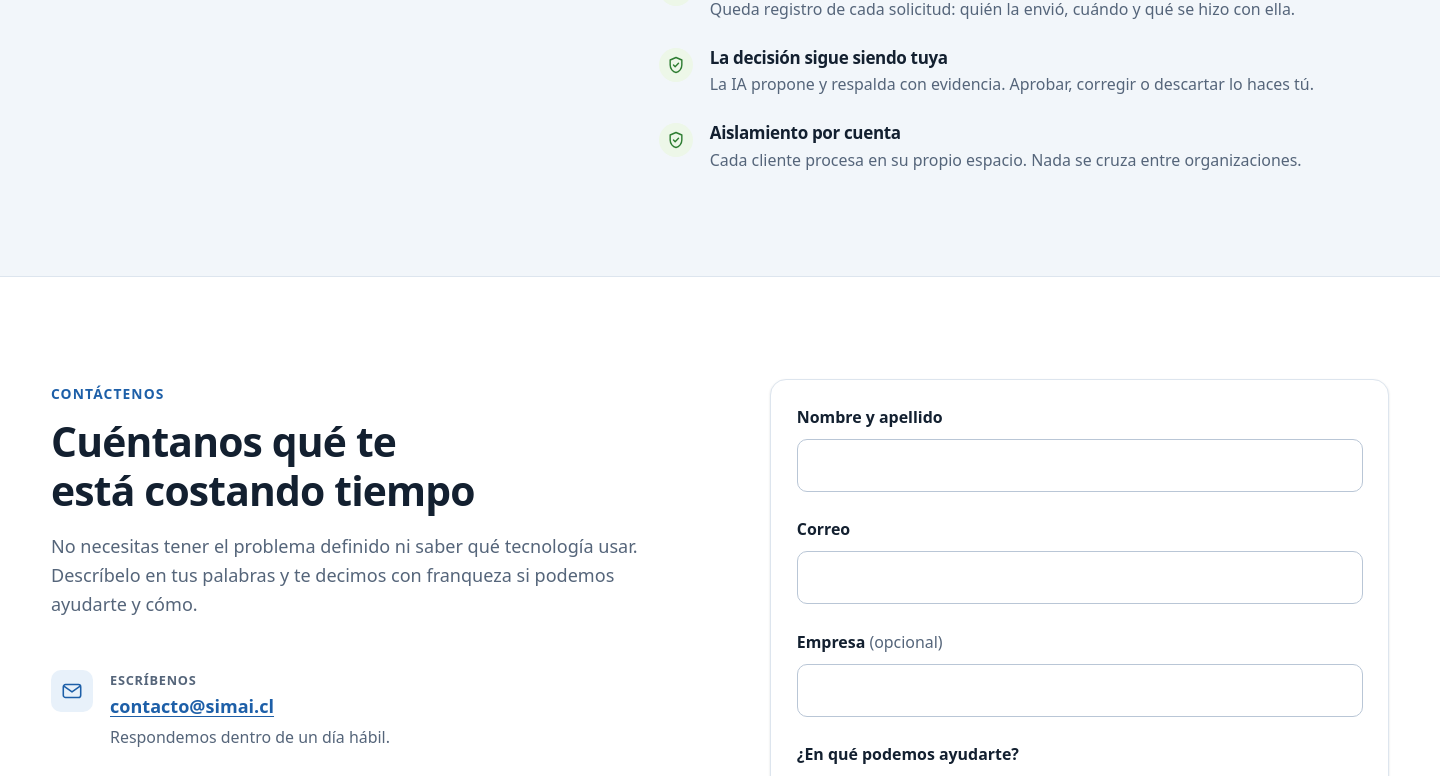
Test: LandingComponent › formulario de contacto › confirma la recepción con datos válidos
(page scrolled)
Step 1. Type "Ana Pérez" into the field labelled "Nombre y apellido" → x=1080, y=466, box [797, 439, 1362, 492]
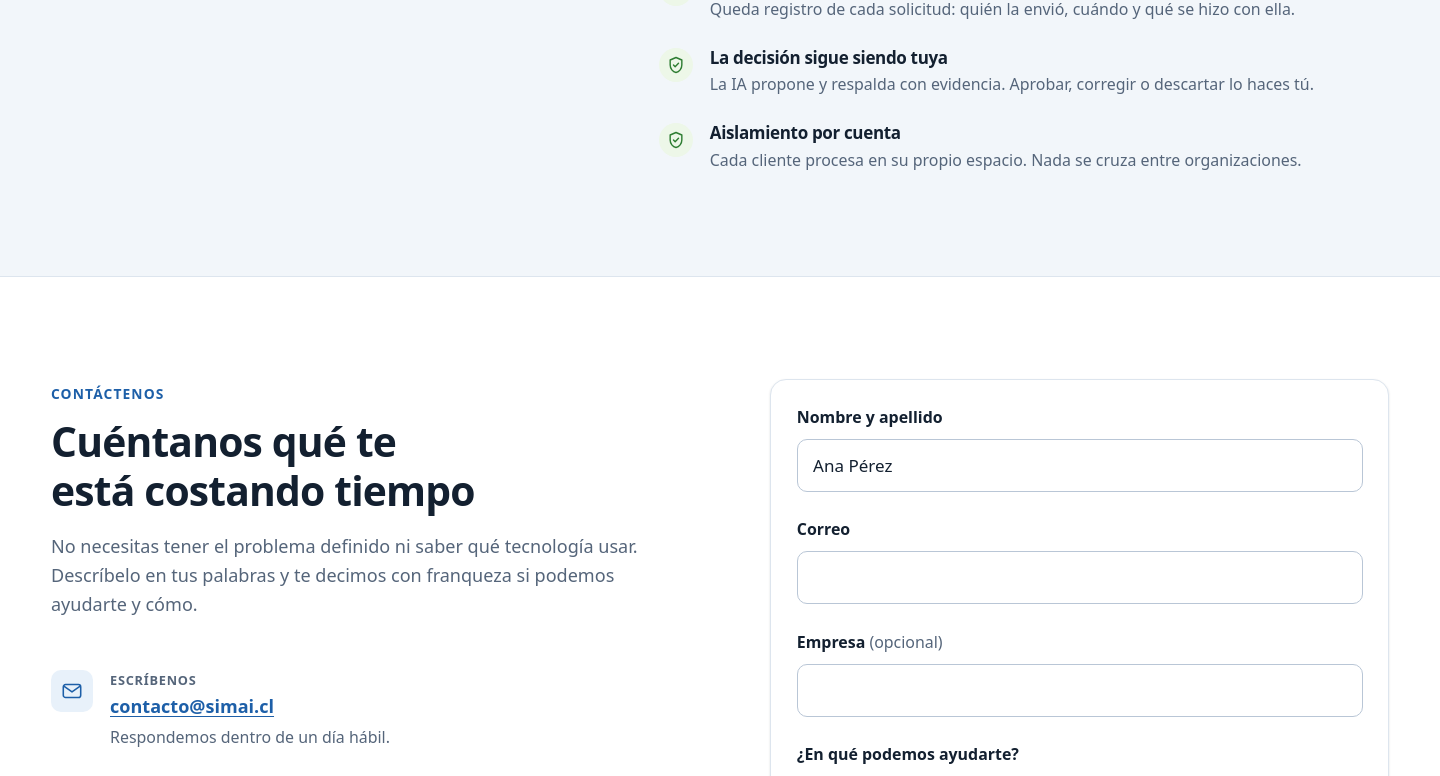
Step 2. Type "ana@acme.cl" into the field labelled "Correo" → x=1080, y=578, box [797, 552, 1362, 604]
(page scrolled)
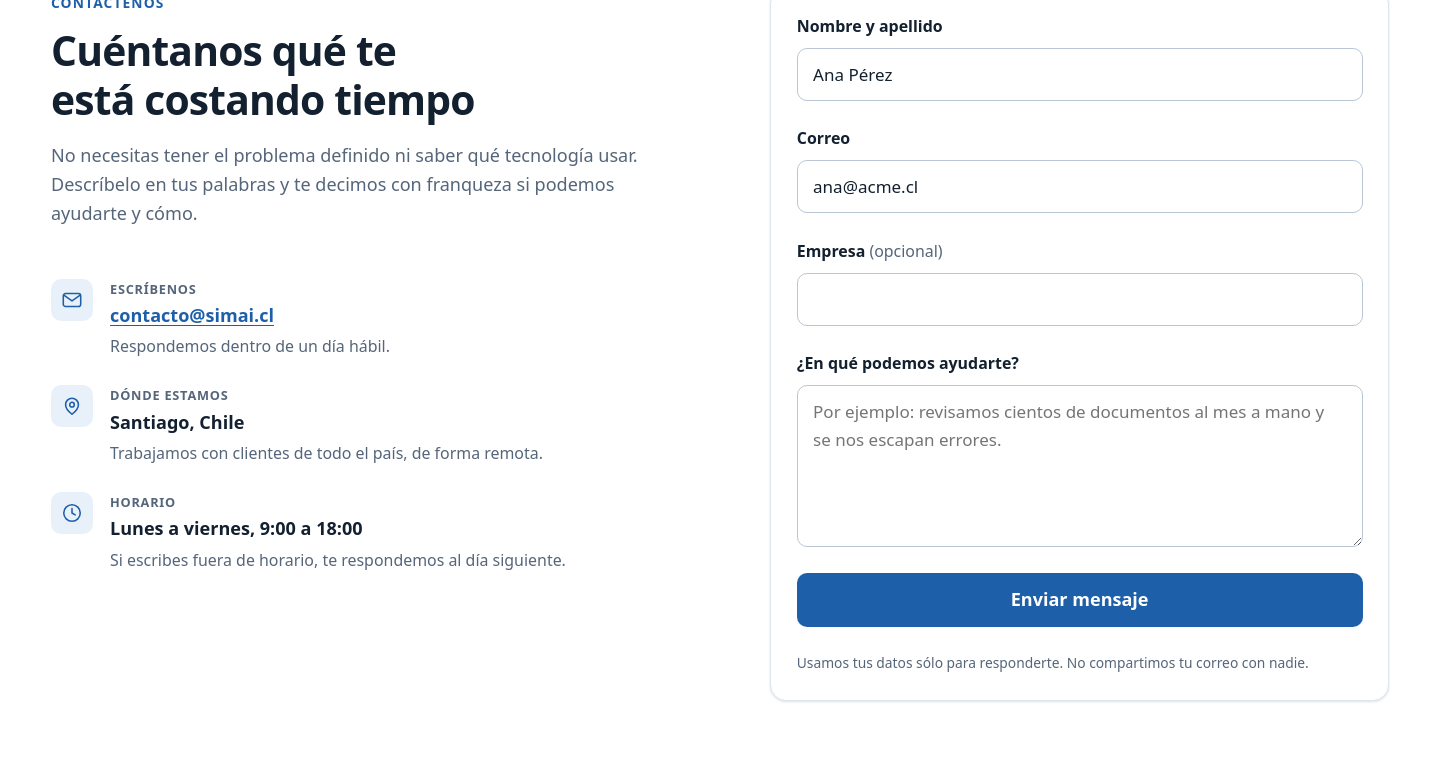
Step 3. Replace the text in the text box labelled "¿En qué podemos ayudarte?" with "Revisamos cientos de documentos al mes a mano." → x=1080, y=466, box [797, 385, 1362, 547]
(page scrolled)
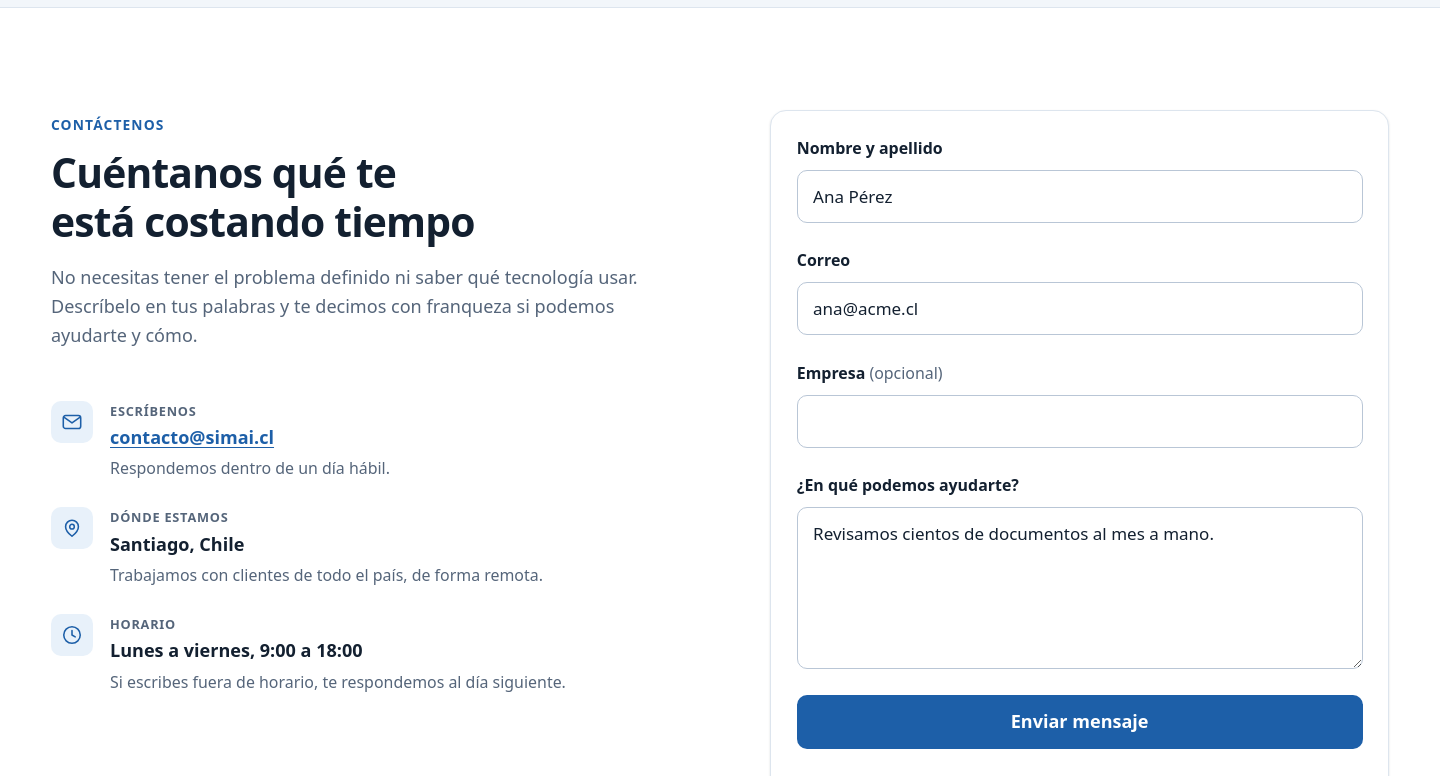
Step 4. Submit the form with class "contacto__form"
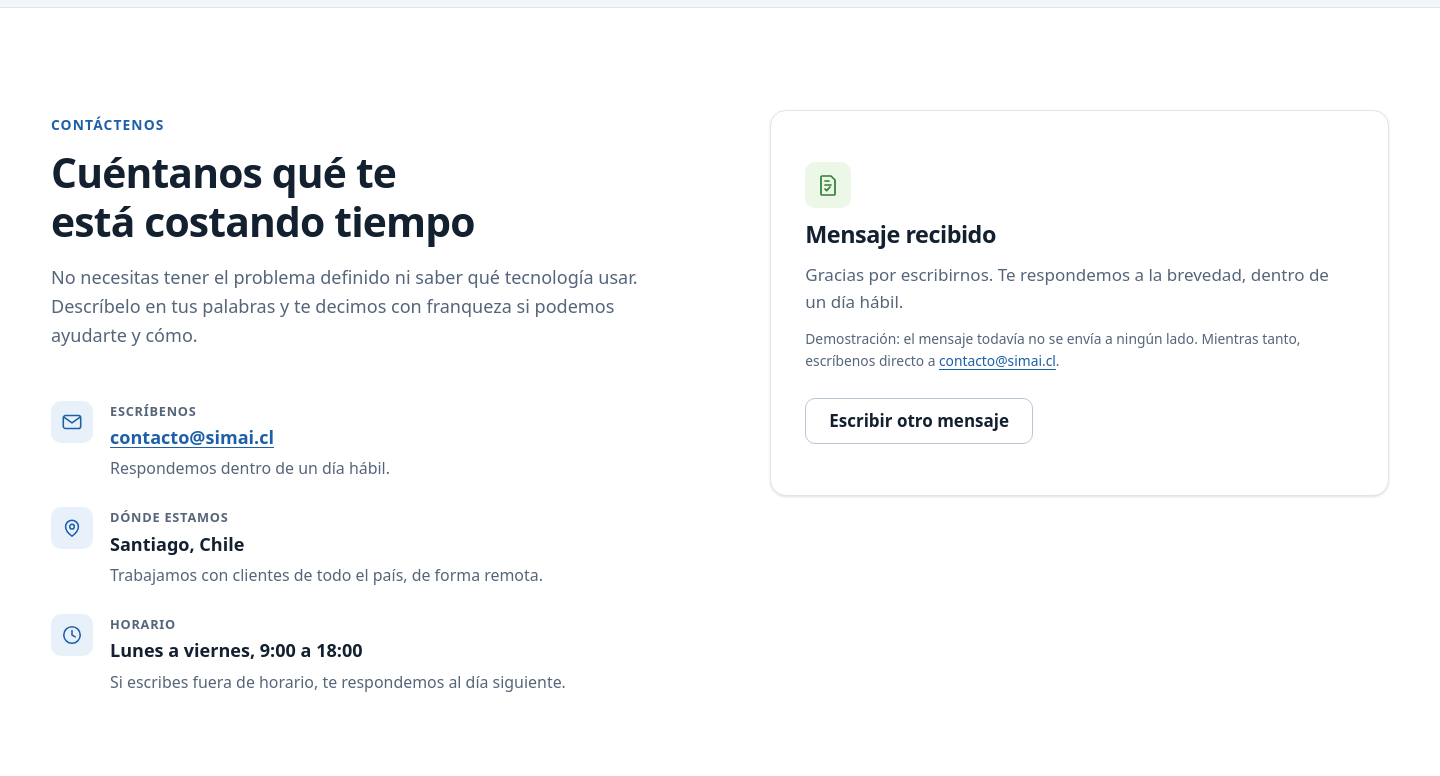
Result: the message with class "contacto__ok" is shown at [770, 110, 1389, 496]
